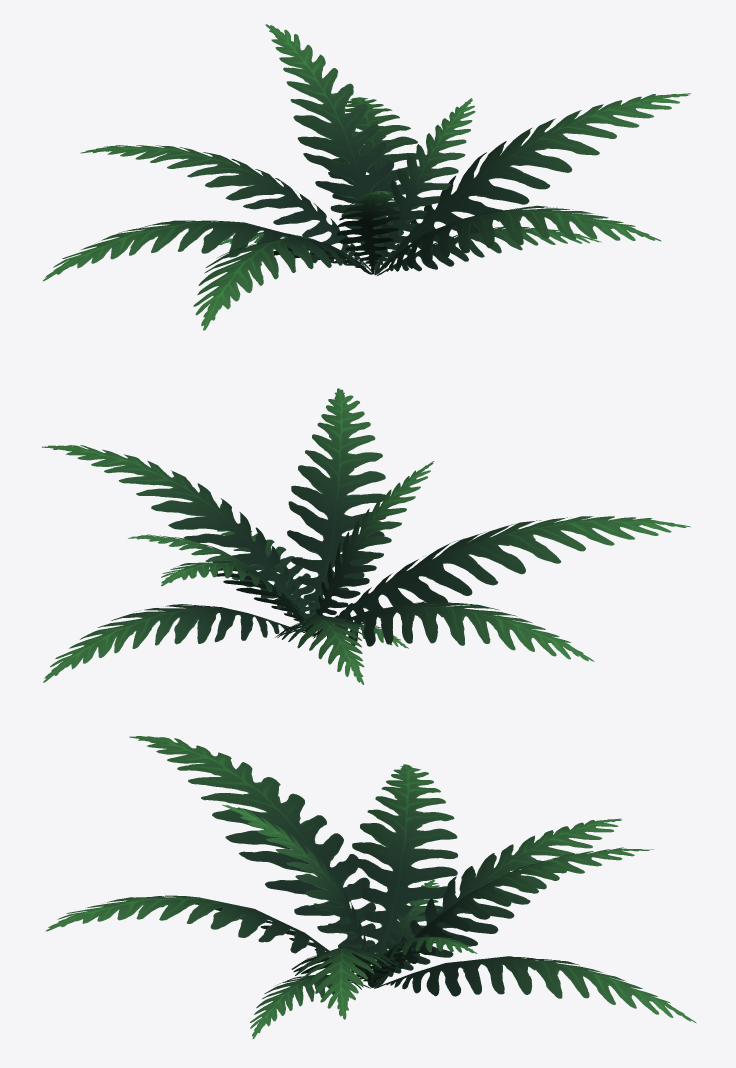
File: fern_SColby.FBX
The picture shows the model from 3 angles, top to bottom: view 1: azimuth 30°, elevation 25°; view 2: azimuth 150°, elevation 25°; view 3: azimuth 270°, elevation 25°; orthographic projection. The views are drawn at different scales.
Parts seen in each view (by area): view 1: Plane006; view 2: Plane006; view 3: Plane006.
Part boxes in pixels (x1,y1,x2,y2): Plane006: (43, 24, 691, 330); Plane006: (42, 388, 690, 684); Plane006: (45, 736, 696, 1038).
Bounding box in the file's own units: 307 × 70.2 × 269.
1 material, 1 textured.
